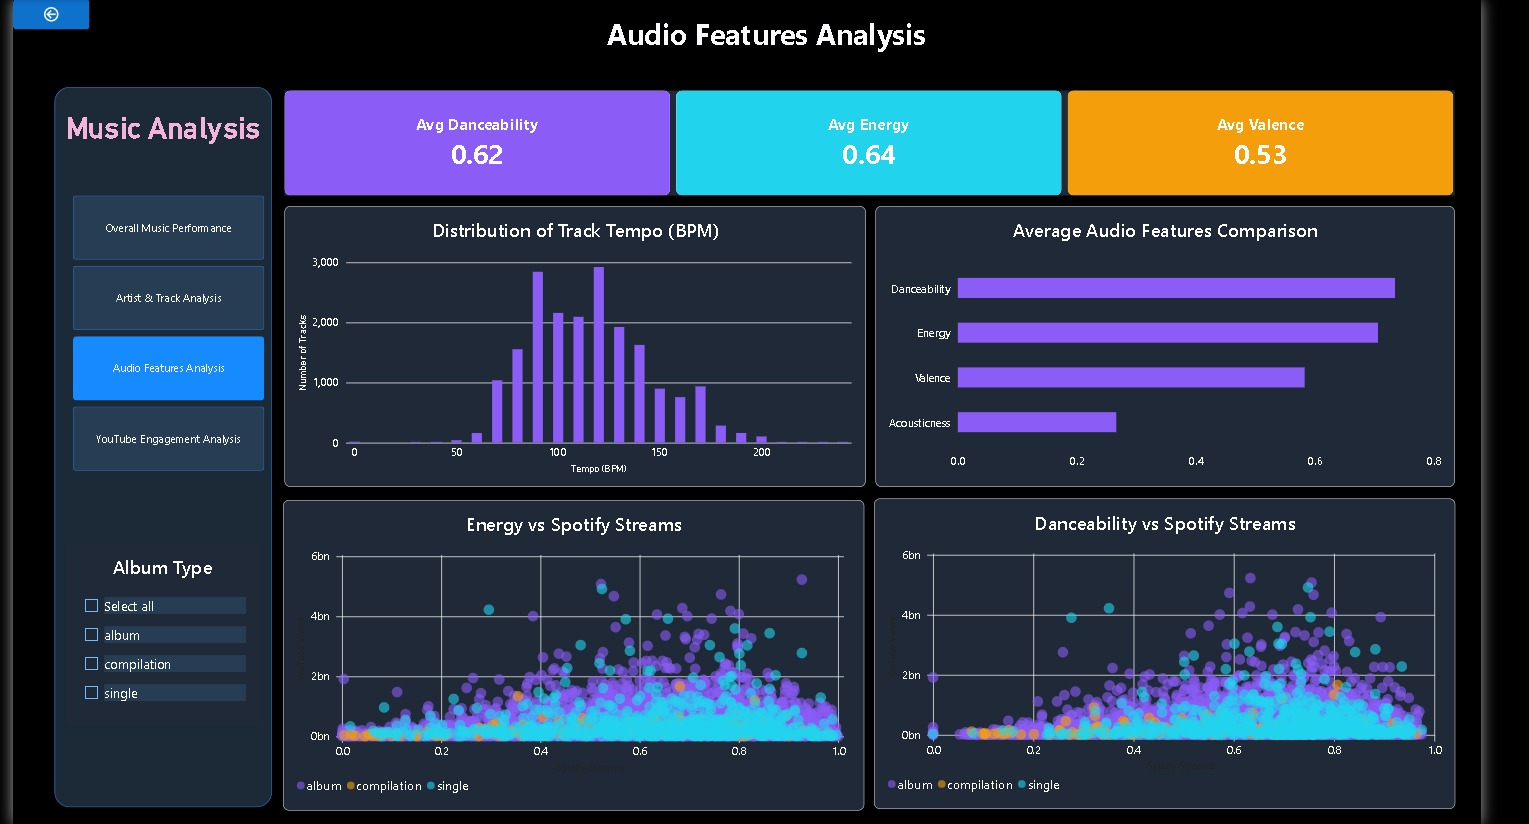

The dashboard page shown, as its layout file describes it:
{"tool":"powerbi","page":{"name":"Audio Features Analysis","canvas":[1920,1080],"ordinal":2},"visuals":[{"type":"textbox","box":[532.5,20,902.5,60],"z":0},{"type":"cardVisual","fields":{"Data":["Spotify_Youtube Dataset.Avg Danceability","Spotify_Youtube Dataset.Avg Energy","Spotify_Youtube Dataset.Avg Valence"]},"box":[355,120,1530,137.5],"z":1000},{"type":"clusteredColumnChart","title":"Distribution of Track Tempo (BPM)","fields":{"Category":["Spotify_Youtube Dataset.Tempo (bins)"],"Y":["CountNonNull(Spotify_Youtube Dataset.Track)"]},"box":[355,270,760,367.5],"z":2000},{"type":"clusteredBarChart","title":"Average Audio Features Comparison","fields":{"Category":["Audio Features.Feature"],"Y":["Spotify_Youtube Dataset.Average Feature Value"]},"box":[1127.5,270,757.5,367.5],"z":3000},{"type":"scatterChart","title":"Danceability vs Spotify Streams","fields":{"Category":["Spotify_Youtube Dataset.Track"],"Series":["Spotify_Youtube Dataset.Album_type"],"X":["Avg(Spotify_Youtube Dataset.Danceability)"],"Y":["Sum(Spotify_Youtube Dataset.Stream)"]},"box":[1126,654,760,406],"z":4000},{"type":"actionButton","box":[0,0,100,40],"z":5000},{"type":"shape","box":[45,105,302.5,960],"z":6000},{"type":"scatterChart","title":"Energy vs Spotify Streams","fields":{"Category":["Spotify_Youtube Dataset.Track"],"Series":["Spotify_Youtube Dataset.Album_type"],"X":["Avg(Spotify_Youtube Dataset.Energy)"],"Y":["Sum(Spotify_Youtube Dataset.Stream)"]},"box":[352.5,655,760,406],"z":8000},{"type":"pageNavigator","box":[77.5,257.5,250,360],"z":8001},{"type":"textbox","box":[68,145,300,90],"z":8002},{"type":"slicer","title":"Album Type","fields":{"Values":["Spotify_Youtube Dataset.Album_type"]},"box":[70,712.5,250,237.5],"z":8003}]}

Visuals, with their boxes on the page's 1920x1080 design canvas (x1, y1, x2, y2). These are canvas units, not pixel positions in the 1529x824 screenshot, which may show the page scaled, cropped or inside an application window:
textbox: {"x1": 532, "y1": 20, "x2": 1435, "y2": 80}
cardVisual - Spotify_Youtube Dataset.Avg Danceability x Spotify_Youtube Dataset.Avg Energy: {"x1": 355, "y1": 120, "x2": 1885, "y2": 258}
"Distribution of Track Tempo (BPM)" clusteredColumnChart: {"x1": 355, "y1": 270, "x2": 1115, "y2": 638}
"Average Audio Features Comparison" clusteredBarChart: {"x1": 1128, "y1": 270, "x2": 1885, "y2": 638}
"Danceability vs Spotify Streams" scatterChart: {"x1": 1126, "y1": 654, "x2": 1886, "y2": 1060}
actionButton: {"x1": 0, "y1": 0, "x2": 100, "y2": 40}
shape: {"x1": 45, "y1": 105, "x2": 348, "y2": 1065}
"Energy vs Spotify Streams" scatterChart: {"x1": 352, "y1": 655, "x2": 1112, "y2": 1061}
pageNavigator: {"x1": 78, "y1": 258, "x2": 328, "y2": 618}
textbox: {"x1": 68, "y1": 145, "x2": 368, "y2": 235}
"Album Type" slicer: {"x1": 70, "y1": 712, "x2": 320, "y2": 950}
